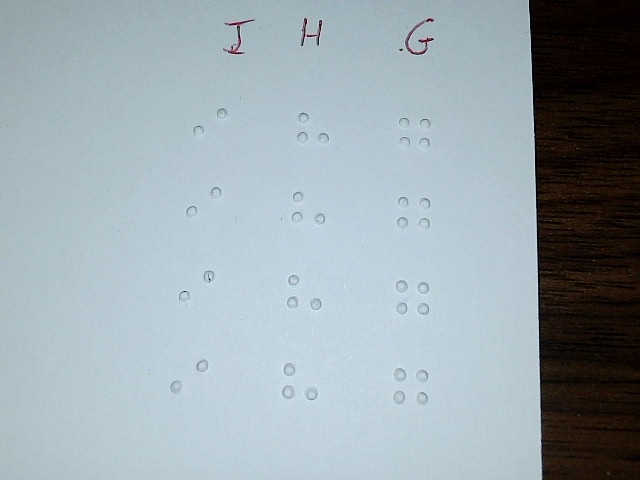G: (396, 106, 433, 165), (395, 187, 432, 246), (394, 269, 431, 328), (393, 358, 430, 417)
H: (295, 102, 332, 161), (291, 182, 328, 241), (286, 266, 323, 325), (281, 355, 318, 414)
I: (169, 352, 210, 413), (192, 98, 229, 157), (185, 174, 222, 233), (178, 260, 215, 319)
